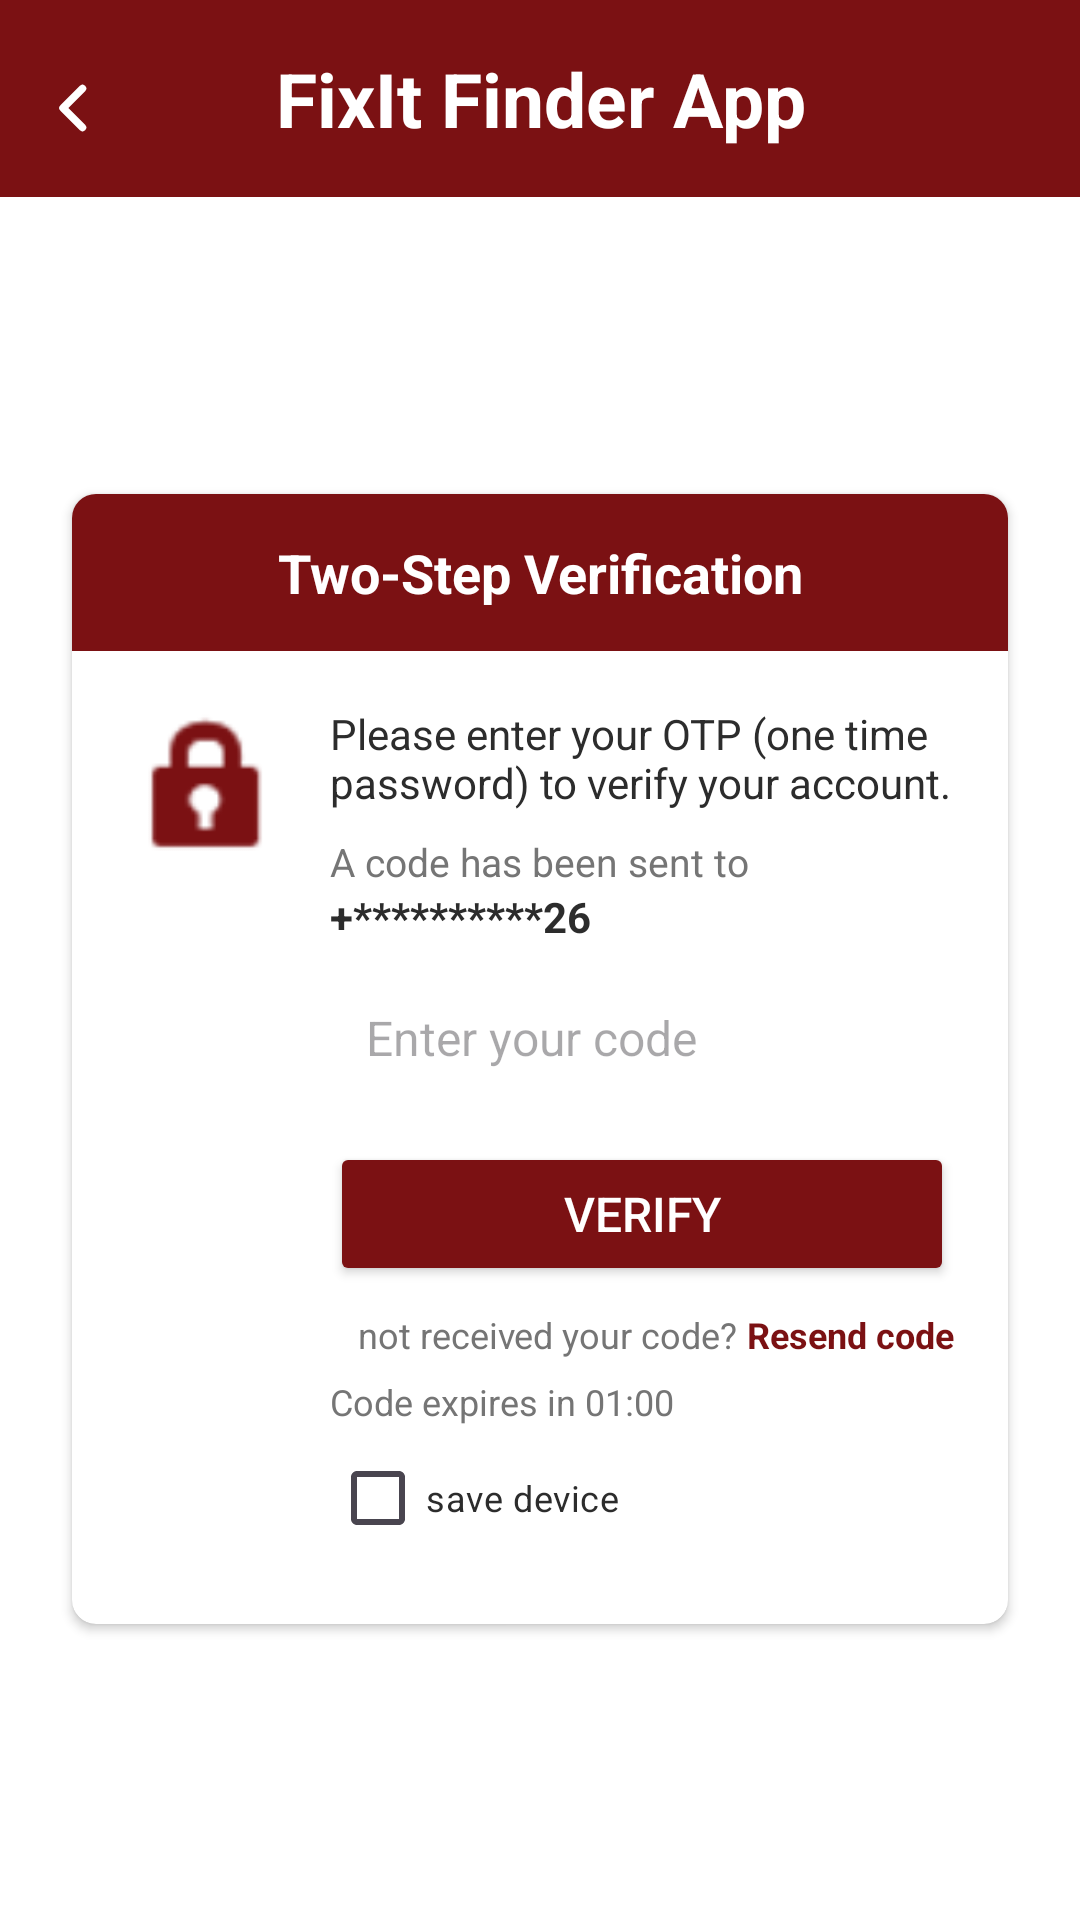

Icons on this 1080px x 1920px Android screen, each with its box as (x1, y1, x2, y2):
Back: (59, 84, 87, 132)
